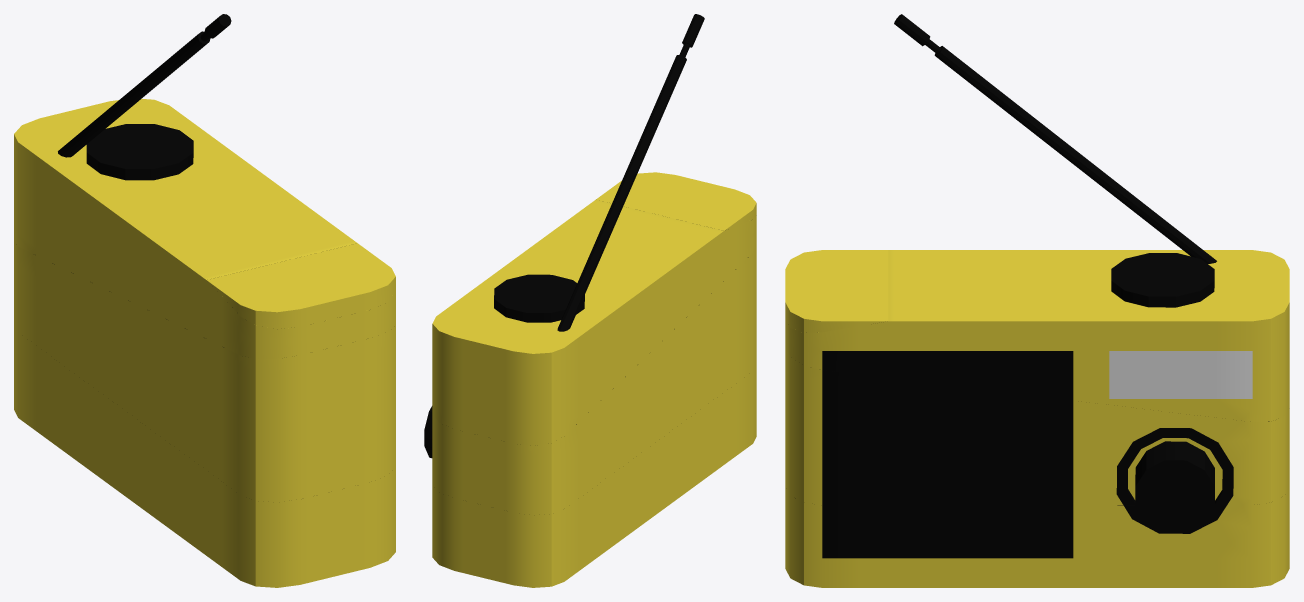
The model's file is Radio_Broken.fbx.
3 views of the same model, side by side, from view 1: azimuth 30°, elevation 25°; view 2: azimuth 150°, elevation 25°; view 3: azimuth 270°, elevation 25° (orthographic). The views are drawn at different scales.
Parts seen in each view (by area): view 1: RadioBro4, RadioBro5, RadioBro1, RadioBro3, RadioBro2; view 2: RadioBro4, RadioBro5, RadioBro1, RadioBro3, RadioBro2; view 3: RadioBro4, RadioBro5, RadioBro1, RadioBro3, RadioBro2.
Boxes of the visible parts, bbox=[...] form: RadioBro4: bbox=[14, 99, 395, 358]; RadioBro5: bbox=[14, 241, 395, 502]; RadioBro1: bbox=[14, 324, 395, 587]; RadioBro3: bbox=[207, 243, 395, 329]; RadioBro2: bbox=[87, 14, 231, 133]; RadioBro4: bbox=[432, 199, 756, 445]; RadioBro5: bbox=[424, 244, 756, 515]; RadioBro1: bbox=[428, 364, 756, 587]; RadioBro3: bbox=[596, 172, 756, 230]; RadioBro2: bbox=[582, 14, 704, 273]; RadioBro4: bbox=[785, 216, 1289, 421]; RadioBro5: bbox=[785, 347, 1289, 520]; RadioBro1: bbox=[785, 486, 1289, 587]; RadioBro3: bbox=[785, 250, 888, 332]; RadioBro2: bbox=[894, 14, 1158, 220].
Size of the model in its own units: 29.61 by 81.5 by 72.57.
